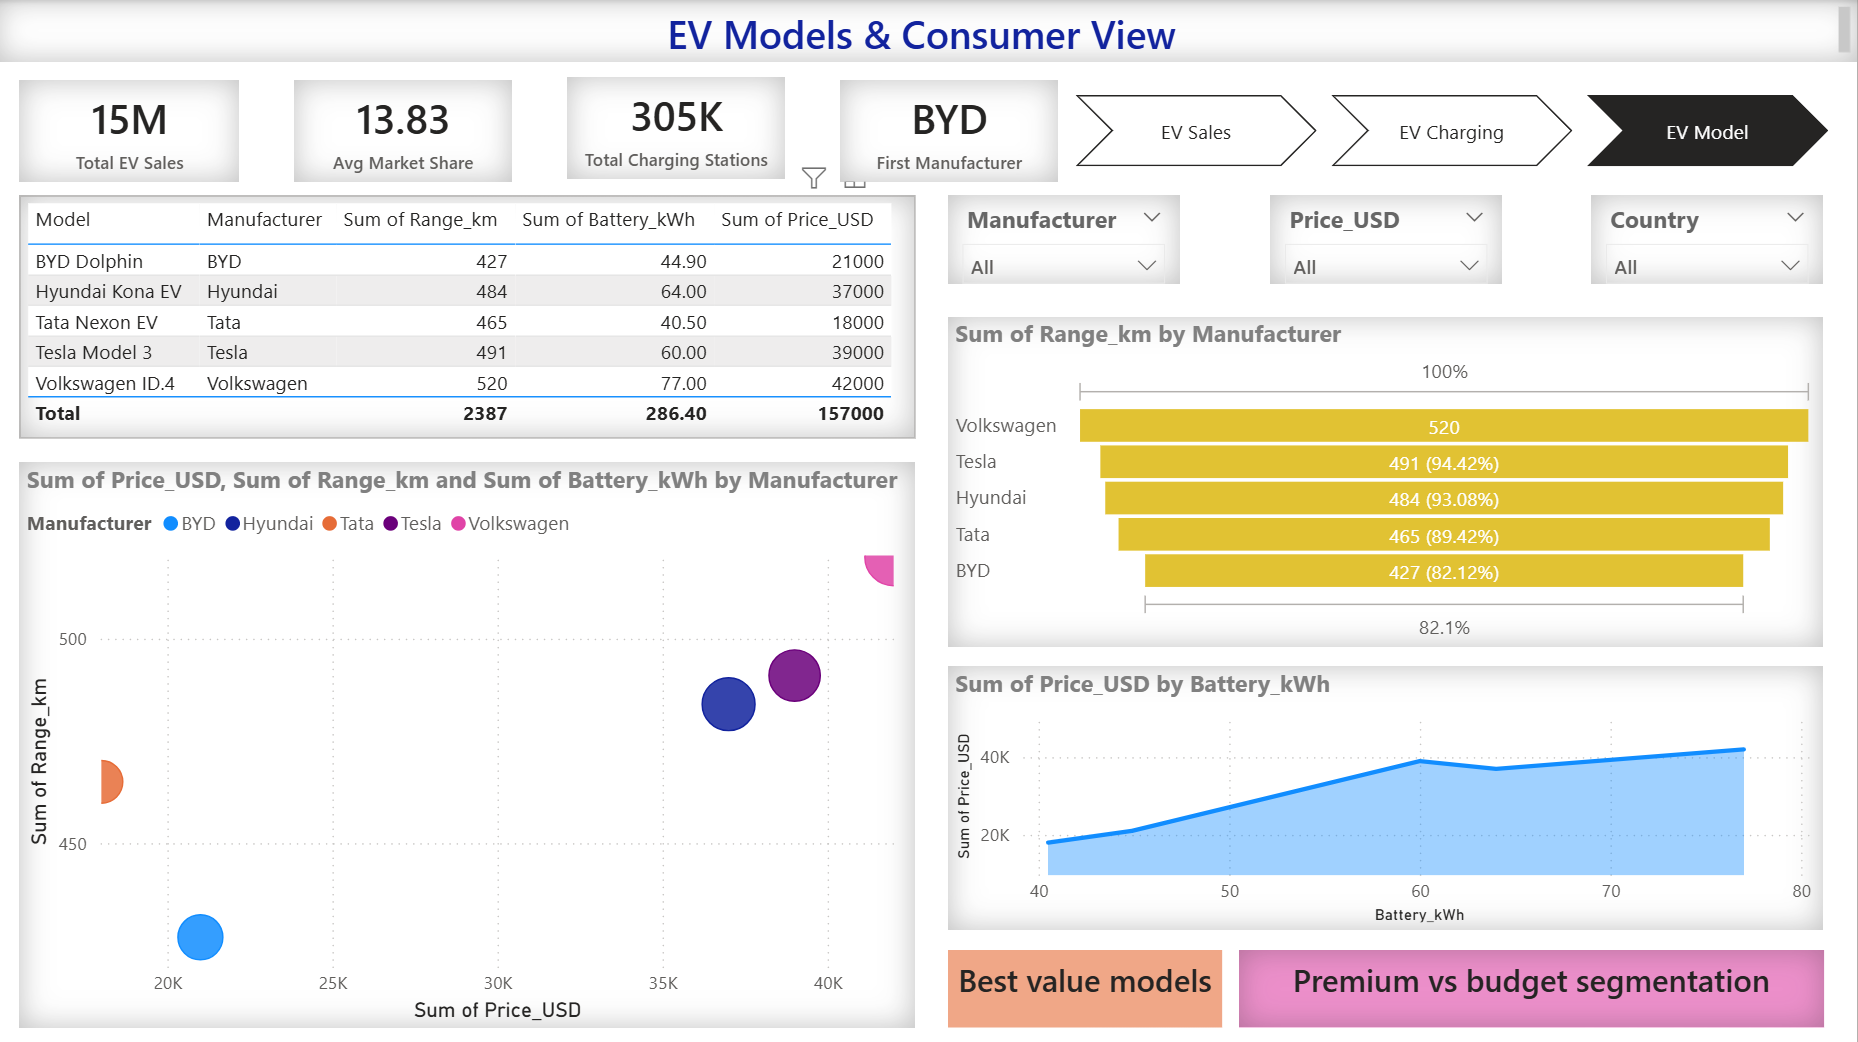

The dashboard page shown, as its layout file describes it:
{"tool":"powerbi","page":{"name":"EV Model","canvas":[1280,720],"ordinal":2},"visuals":[{"type":"textbox","box":[0,0,1280,43.4],"z":0},{"type":"tableEx","fields":{"Values":["EV_Model.Model","EV_Model.Manufacturer","Sum(EV_Model.Range_km)","Sum(EV_Model.Battery_kWh)","Sum(EV_Model.Price_USD)"]},"box":[15.7,135.3,616.2,166.7],"z":1000},{"type":"scatterChart","fields":{"Series":["EV_Model.Manufacturer"],"Size":["Sum(EV_Model.Battery_kWh)"],"X":["Sum(EV_Model.Price_USD)"],"Y":["Sum(EV_Model.Range_km)"]},"box":[15.7,319,616.2,389.1],"z":2000},{"type":"slicer","fields":{"Values":["EV_Sales.Country"]},"box":[1097.1,135.3,159.5,60.4],"z":3000},{"type":"funnel","fields":{"Category":["EV_Model.Manufacturer"],"Y":["Sum(EV_Model.Range_km)"]},"box":[654.9,218.7,601.7,227.2],"z":4000},{"type":"card","fields":{"Values":["EV_Sales.Total EV Sales"]},"box":[15.7,55.6,151,70],"z":5000},{"type":"card","fields":{"Values":["Min(EV_Model.Manufacturer)"]},"box":[580,55.6,149.8,70.1],"z":6000},{"type":"card","fields":{"Values":["EV_Charging.Total Charging Stations"]},"box":[392.2,53.2,150,70],"z":7000},{"type":"card","fields":{"Values":["EV_Sales.Avg Market Share"]},"box":[204.5,55.6,149.8,70.1],"z":8000},{"type":"textbox","box":[654.9,654.9,188.5,53.2],"z":9000},{"type":"textbox","box":[854.3,654.9,402.4,53.2],"z":10000},{"type":"slicer","fields":{"Values":["EV_Model.Price_USD"]},"box":[876,135.3,159.5,60.4],"z":11000},{"type":"slicer","fields":{"Values":["EV_Model.Manufacturer"]},"box":[654.9,135.3,159.5,60.4],"z":12000},{"type":"stackedAreaChart","fields":{"Category":["EV_Model.Battery_kWh"],"Y":["Sum(EV_Model.Price_USD)"]},"box":[654.9,459.2,601.7,181.2],"z":13000},{"type":"pageNavigator","box":[741.9,66.5,520.8,49.5],"z":14000}]}

Visuals, with their boxes in screenshot pixels (x1, y1, x2, y2), scaled from the page's 1280x720 canvas onto the 1858x1042 screenshot:
textbox: locate(0, 0, 1857, 63)
tableEx - EV_Model.Model x EV_Model.Manufacturer: locate(23, 196, 917, 437)
scatterChart - EV_Model.Manufacturer x Sum(EV_Model.Battery_kWh): locate(23, 462, 917, 1025)
slicer - EV_Sales.Country: locate(1593, 196, 1824, 283)
funnel - EV_Model.Manufacturer x Sum(EV_Model.Range_km): locate(951, 317, 1824, 645)
card - EV_Sales.Total EV Sales: locate(23, 80, 242, 182)
card - Min(EV_Model.Manufacturer): locate(842, 80, 1059, 182)
card - EV_Charging.Total Charging Stations: locate(569, 77, 787, 178)
card - EV_Sales.Avg Market Share: locate(297, 80, 514, 182)
textbox: locate(951, 948, 1224, 1025)
textbox: locate(1240, 948, 1824, 1025)
slicer - EV_Model.Price_USD: locate(1272, 196, 1503, 283)
slicer - EV_Model.Manufacturer: locate(951, 196, 1182, 283)
stackedAreaChart - EV_Model.Battery_kWh x Sum(EV_Model.Price_USD): locate(951, 665, 1824, 927)
pageNavigator: locate(1077, 96, 1833, 168)
